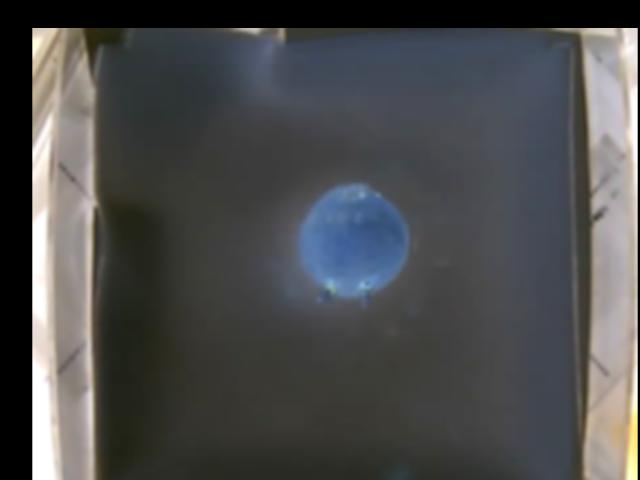Potato: (300, 183, 407, 304)
